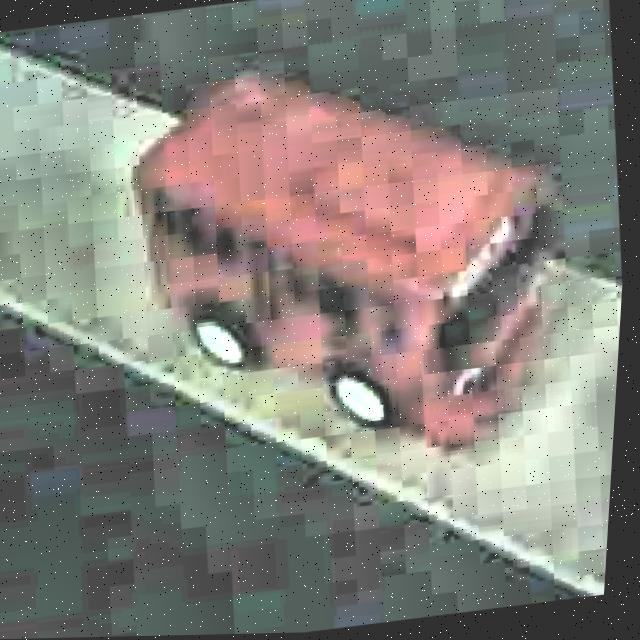bus: (102, 27, 582, 495)
